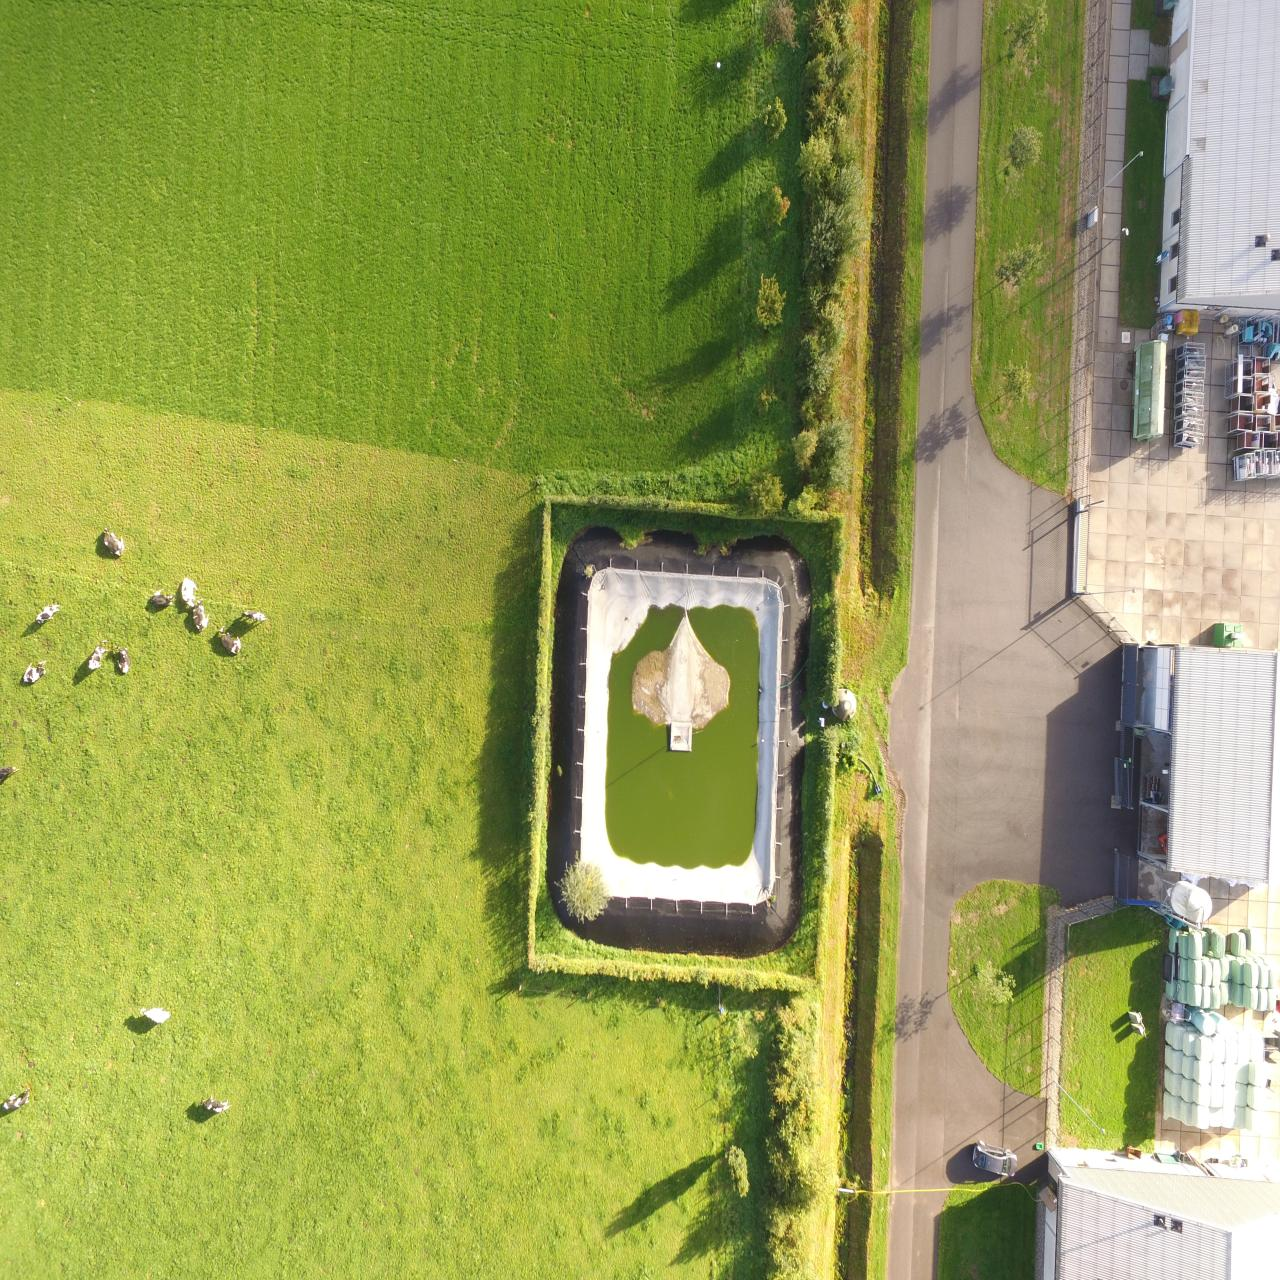cow: (198, 1087, 237, 1115), (1, 1082, 34, 1114), (215, 624, 245, 659), (101, 526, 127, 560), (185, 605, 212, 634), (22, 655, 47, 686), (138, 1003, 172, 1025), (142, 587, 173, 611), (176, 576, 196, 606), (112, 644, 130, 677), (86, 639, 108, 666), (32, 605, 61, 625), (239, 608, 267, 624)
